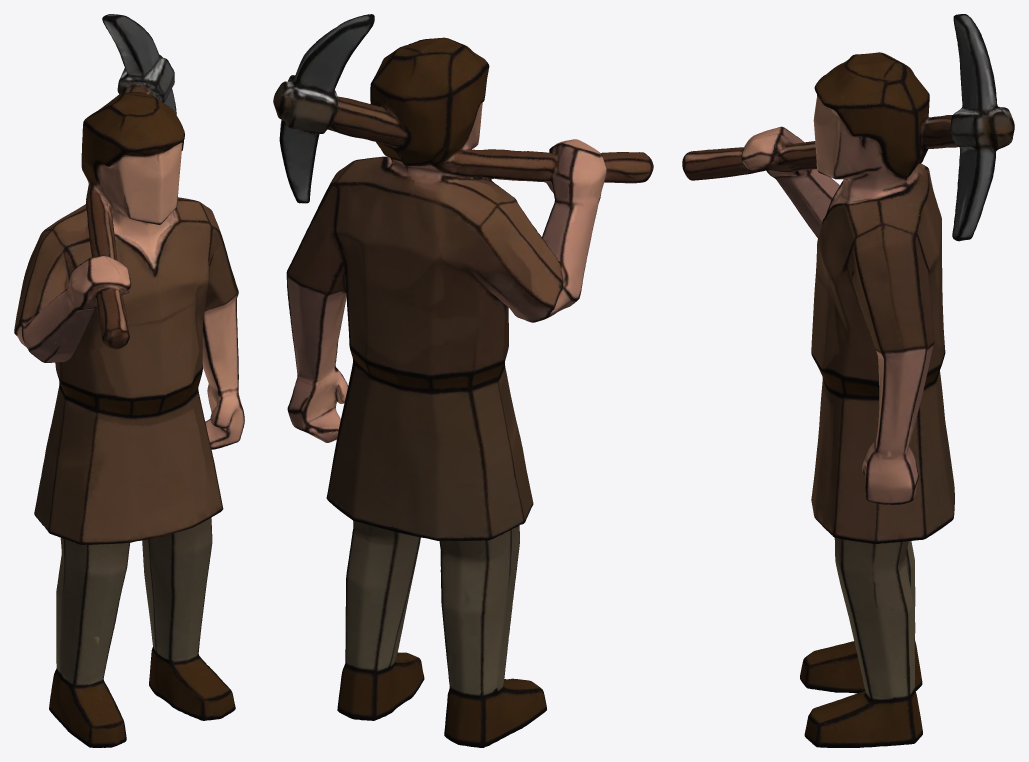
Rendered from worker.glb.
3 renders of one model, left to right at view 1: azimuth 30°, elevation 25°; view 2: azimuth 150°, elevation 25°; view 3: azimuth 270°, elevation 25°, orthographic. The views are drawn at different scales.
Parts seen in each view (by area): view 1: world; view 2: world; view 3: world.
Part boxes in pixels (bbox=[...]): world: bbox=[14, 14, 244, 747]; world: bbox=[273, 14, 653, 747]; world: bbox=[682, 14, 1014, 747].
Bounding box in the file's own units: 0.3694 × 1 × 0.4286.
Materials: 1 (1 with a texture image).
